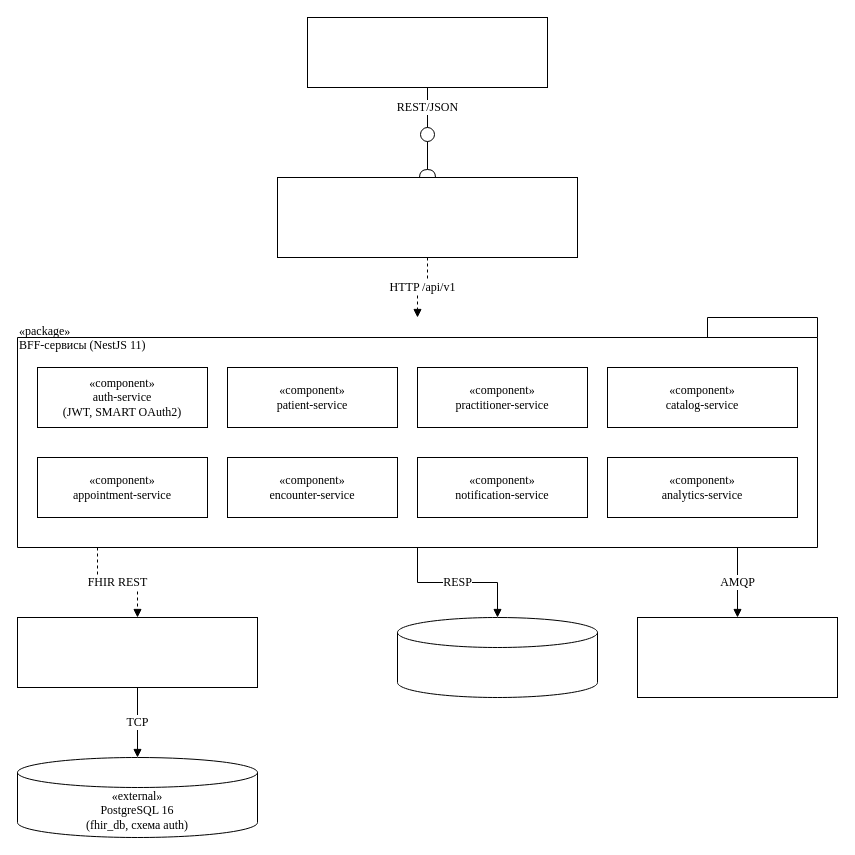
The diagram is 855 pixels wide and 855 high, and some of its shapes have lost their labels. Here are the shapes that lost their labels. From the top down, the box of each, then its label:
(306, 16, 548, 88): «component» Next.js SPA (React 18, TanStack Query)
(276, 176, 578, 258): «component» Traefik API-gateway (TLS, маршрутизация /api/v1)
(16, 616, 258, 688): «component» HAPI FHIR JPA Server (R4, порт 8080)
(396, 616, 598, 698): «external» Redis 7 (кэш, rate-limit, denylist)
(636, 616, 838, 698): «external» RabbitMQ 3.13 (topic medical.events, DLQ)
